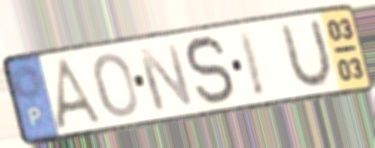A: (53, 54, 109, 131)
I: (235, 26, 269, 101)
N: (133, 41, 197, 114)
O: (91, 50, 140, 120)
S: (183, 32, 237, 109)
U: (278, 15, 335, 93)
